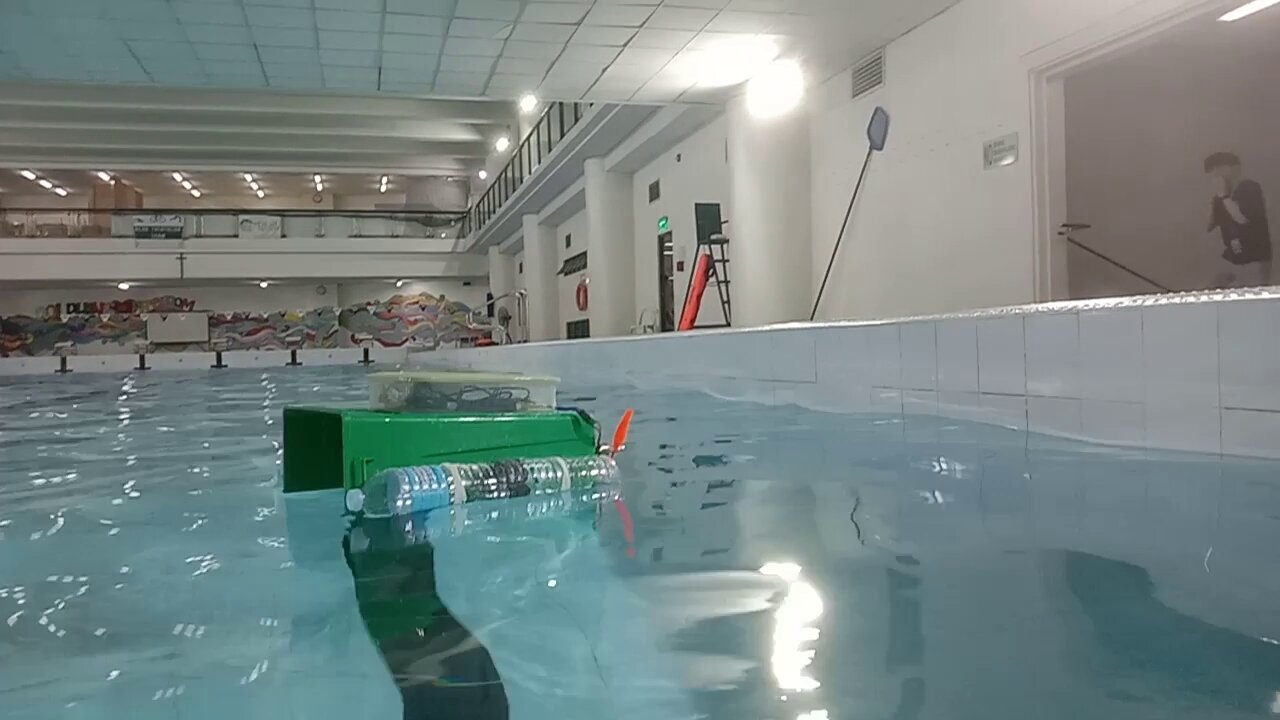drone: (284, 373, 633, 519)
